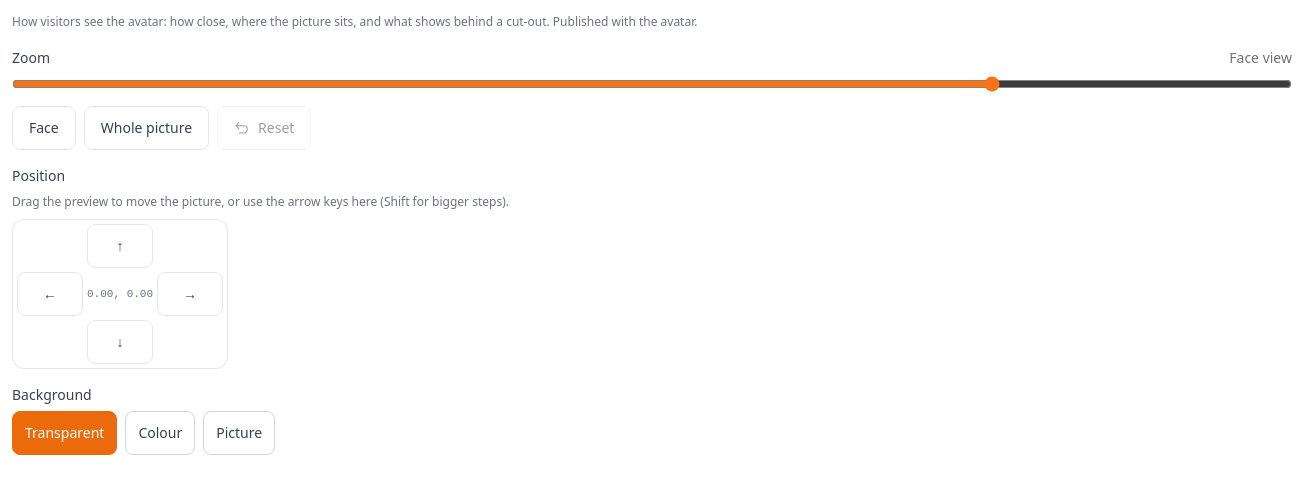
Test: the Framing & scene panel › a refused save is said
Click the button "Whole picture" at x=146, y=128, box [84,106,209,150]
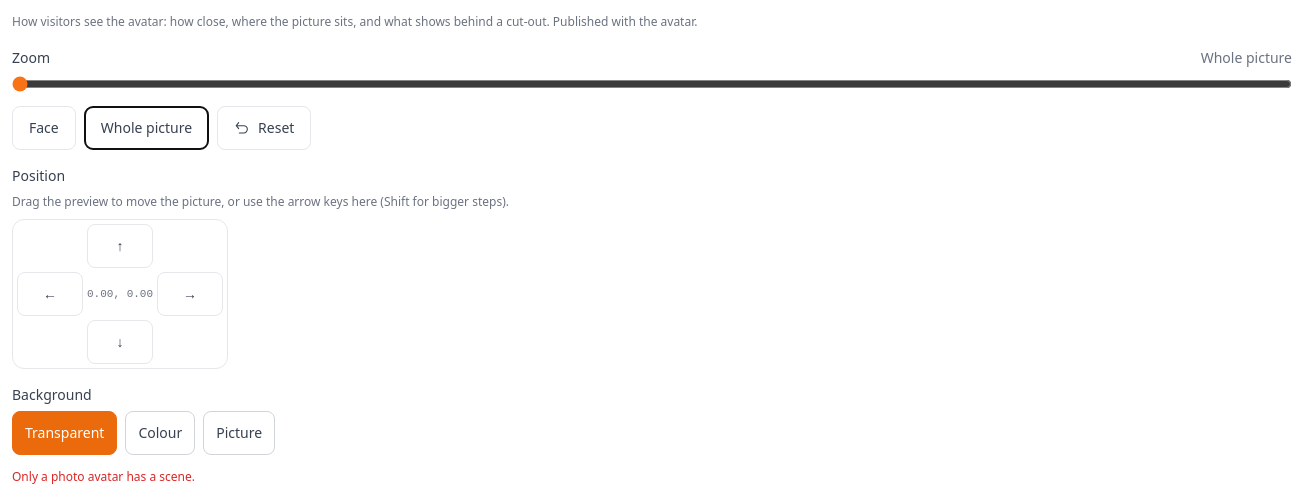
Now the message reads "Only a photo avatar has a scene.", box [12,468,195,485]
